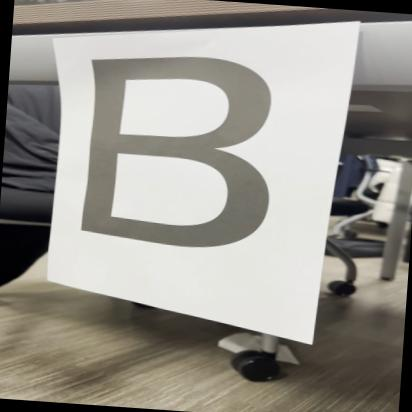seat: (50, 44, 314, 270)
